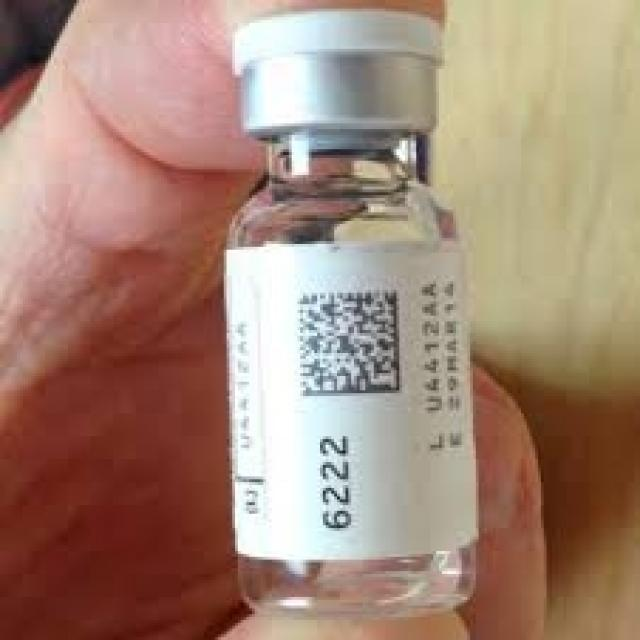Data-Matrix: (283, 281, 411, 402)
